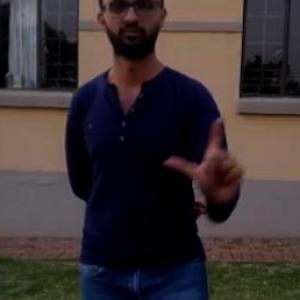land_hand: (159, 110, 250, 204)
